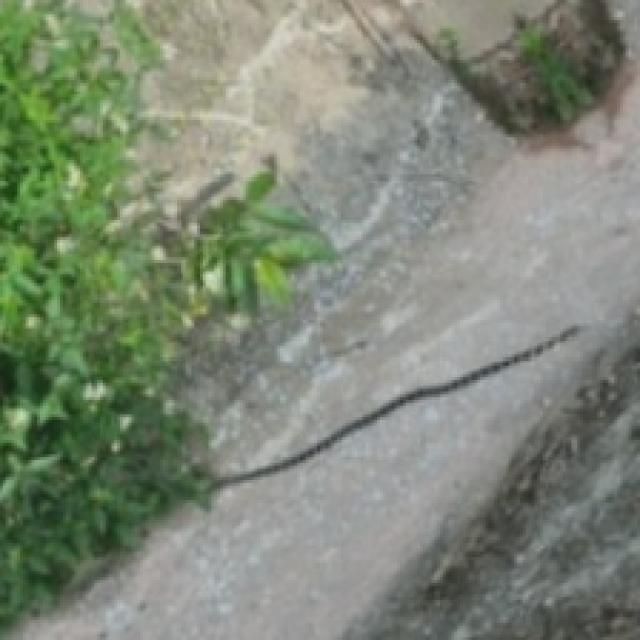king cobra: (214, 326, 580, 486)
